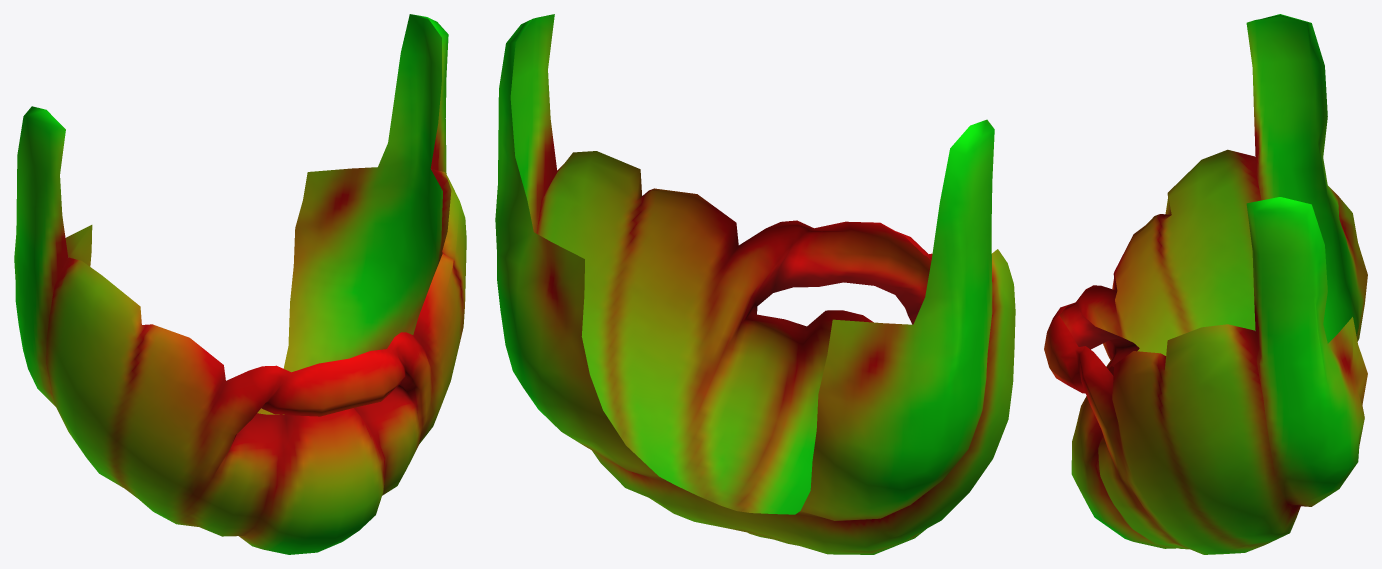
The model's file is LowerFace_BushyBeard.obj.
3 renders of one model, left to right at view 1: azimuth 30°, elevation 25°; view 2: azimuth 150°, elevation 25°; view 3: azimuth 270°, elevation 25°, orthographic. The views are drawn at different scales.
Parts seen in each view (by area): view 1: LowerFace_BushyBeard_0; view 2: LowerFace_BushyBeard_0; view 3: LowerFace_BushyBeard_0.
Part boxes in pixels (x1=…): LowerFace_BushyBeard_0: x1=14, y1=14, x2=466, y2=554; LowerFace_BushyBeard_0: x1=495, y1=14, x2=1015, y2=554; LowerFace_BushyBeard_0: x1=1044, y1=14, x2=1367, y2=554.
Bounding box in the file's own units: 0.1764 × 0.1812 × 0.1231.
Materials: 1 (1 with a texture image).
